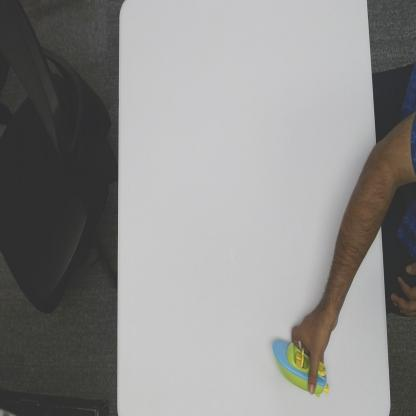Arm: (327, 146, 381, 318)
Boat: (271, 337, 330, 397)
Hand: (293, 306, 335, 394)
